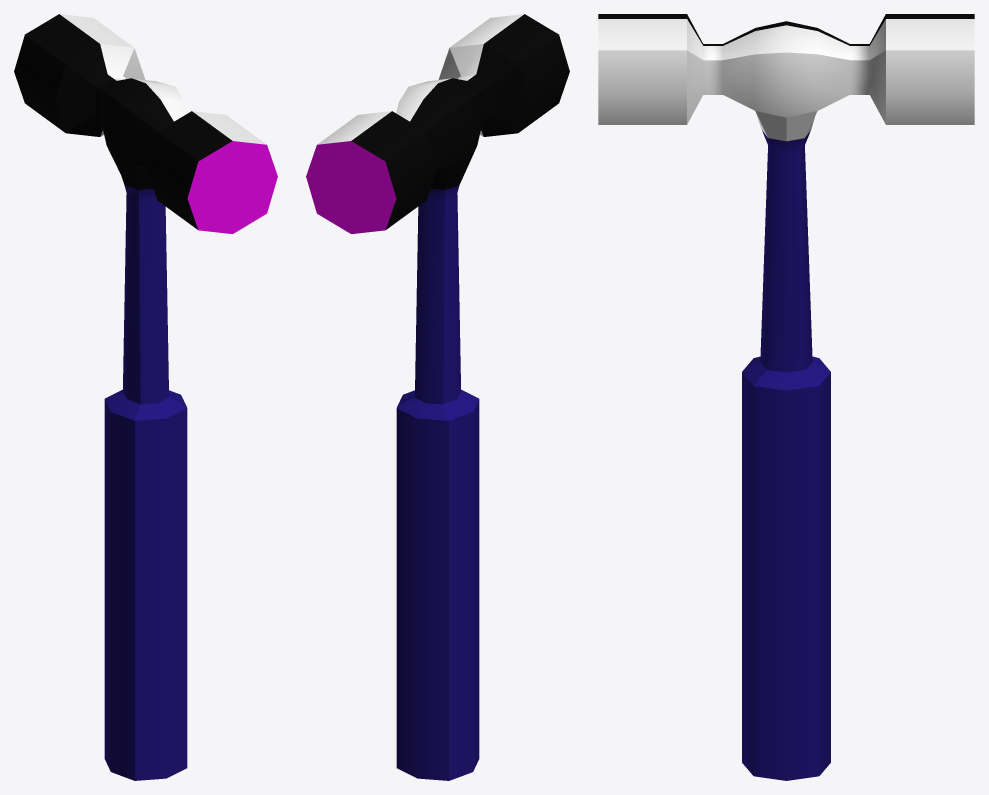
Rendered from Hammer_Textured_Fixed.obj.
3 renders of one model, left to right at view 1: azimuth 30°, elevation 25°; view 2: azimuth 150°, elevation 25°; view 3: azimuth 270°, elevation 25°, orthographic. The views are drawn at different scales.
Parts seen in each view (by area): view 1: Hammermesh; view 2: Hammermesh; view 3: Hammermesh.
Part boxes in pixels (box(x1,y1,x2,y2)): Hammermesh: box(14, 14, 277, 780); Hammermesh: box(306, 14, 569, 780); Hammermesh: box(598, 14, 974, 780).
Bounding box in the file's own units: 2.53 × 18.36 × 8.42.
